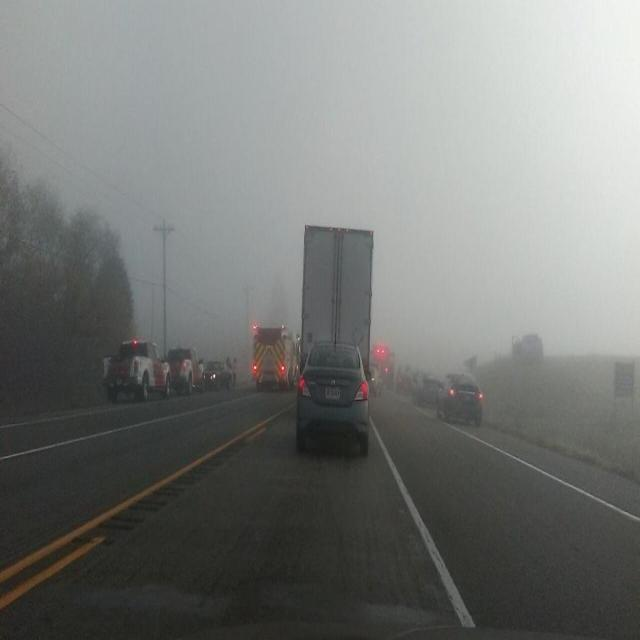Car: (294, 331, 369, 447), (104, 336, 168, 406), (440, 350, 485, 422), (168, 341, 203, 392), (205, 351, 235, 387), (414, 363, 436, 406), (396, 358, 412, 391), (369, 354, 385, 387)
Truck: (301, 221, 378, 366), (251, 314, 297, 397)
